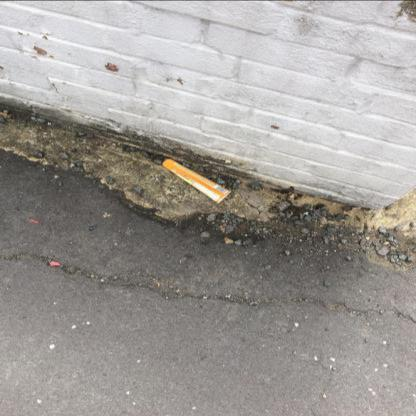Carton: (162, 159, 231, 204)
